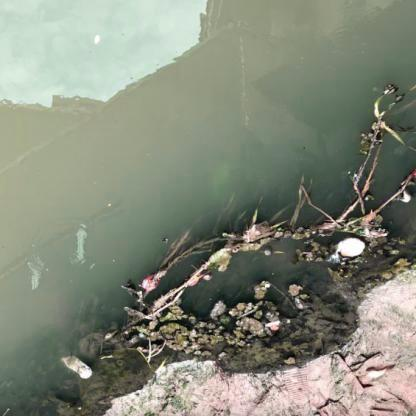Trash: (326, 236, 368, 266), (62, 352, 96, 382)
